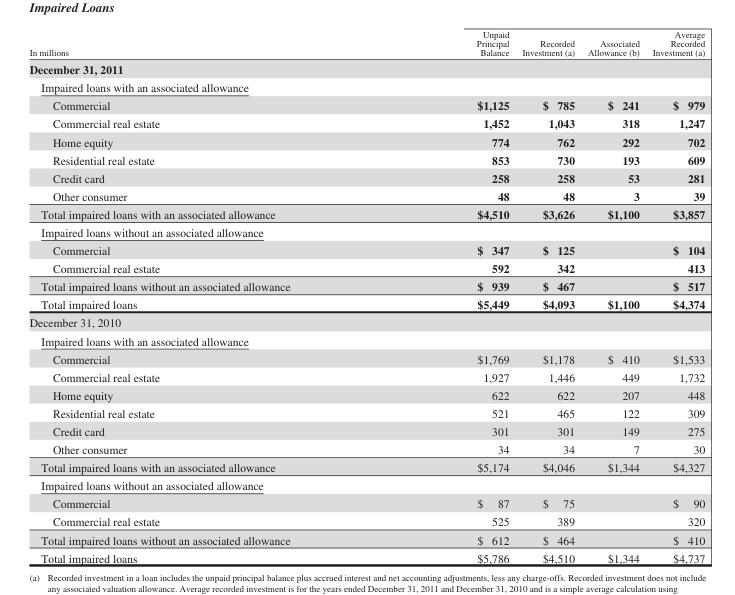table: (28, 28, 704, 564)
table column: (28, 28, 382, 564), (382, 28, 515, 564), (515, 28, 580, 564), (580, 28, 645, 564), (645, 28, 704, 564)
table column header: (28, 28, 704, 59)
table projected row header: (28, 59, 704, 78), (28, 78, 704, 96), (28, 313, 704, 331), (28, 331, 704, 349), (28, 476, 704, 494), (28, 223, 704, 240)
table row: (28, 28, 704, 59), (28, 59, 704, 78), (28, 204, 704, 223), (28, 258, 704, 277), (28, 421, 704, 440), (28, 78, 704, 96), (28, 96, 704, 114), (28, 114, 704, 132), (28, 132, 704, 150), (28, 150, 704, 168), (28, 168, 704, 186), (28, 186, 704, 204), (28, 240, 704, 258), (28, 277, 704, 295), (28, 295, 704, 313), (28, 313, 704, 331), (28, 331, 704, 349), (28, 349, 704, 367), (28, 367, 704, 385), (28, 385, 704, 403), (28, 403, 704, 421), (28, 440, 704, 458), (28, 458, 704, 476), (28, 476, 704, 494), (28, 494, 704, 512), (28, 512, 704, 530), (28, 530, 704, 548), (28, 223, 704, 240), (28, 548, 704, 564)
